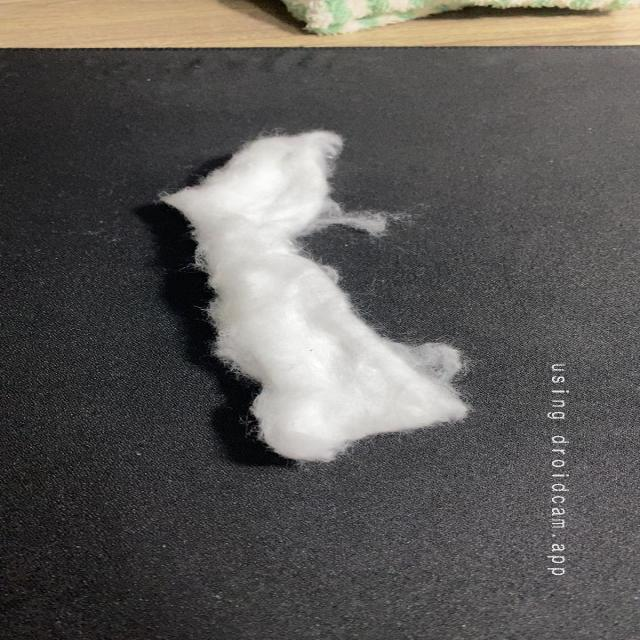cotton: (151, 123, 482, 469)
